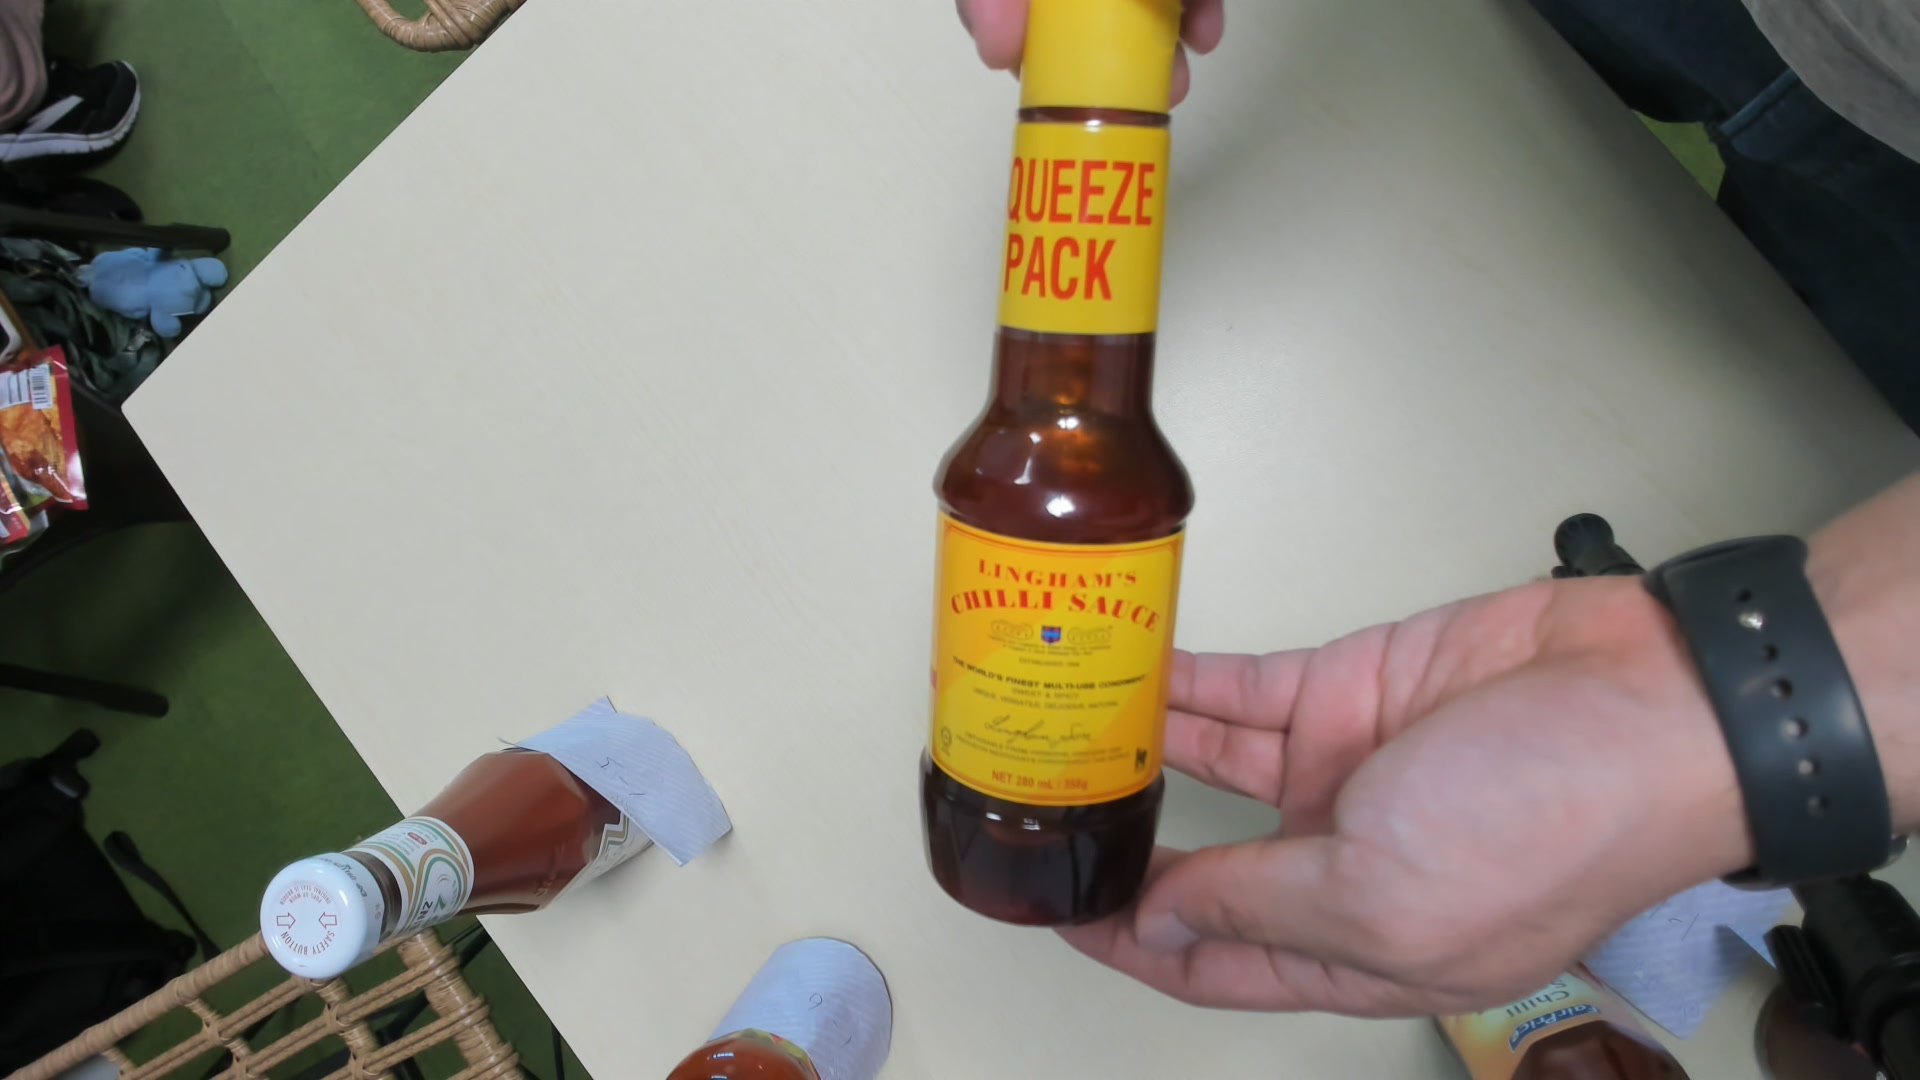KetchupChillSauce_300-399g_Halal_NonHealthy: (922, 7, 1197, 920)
